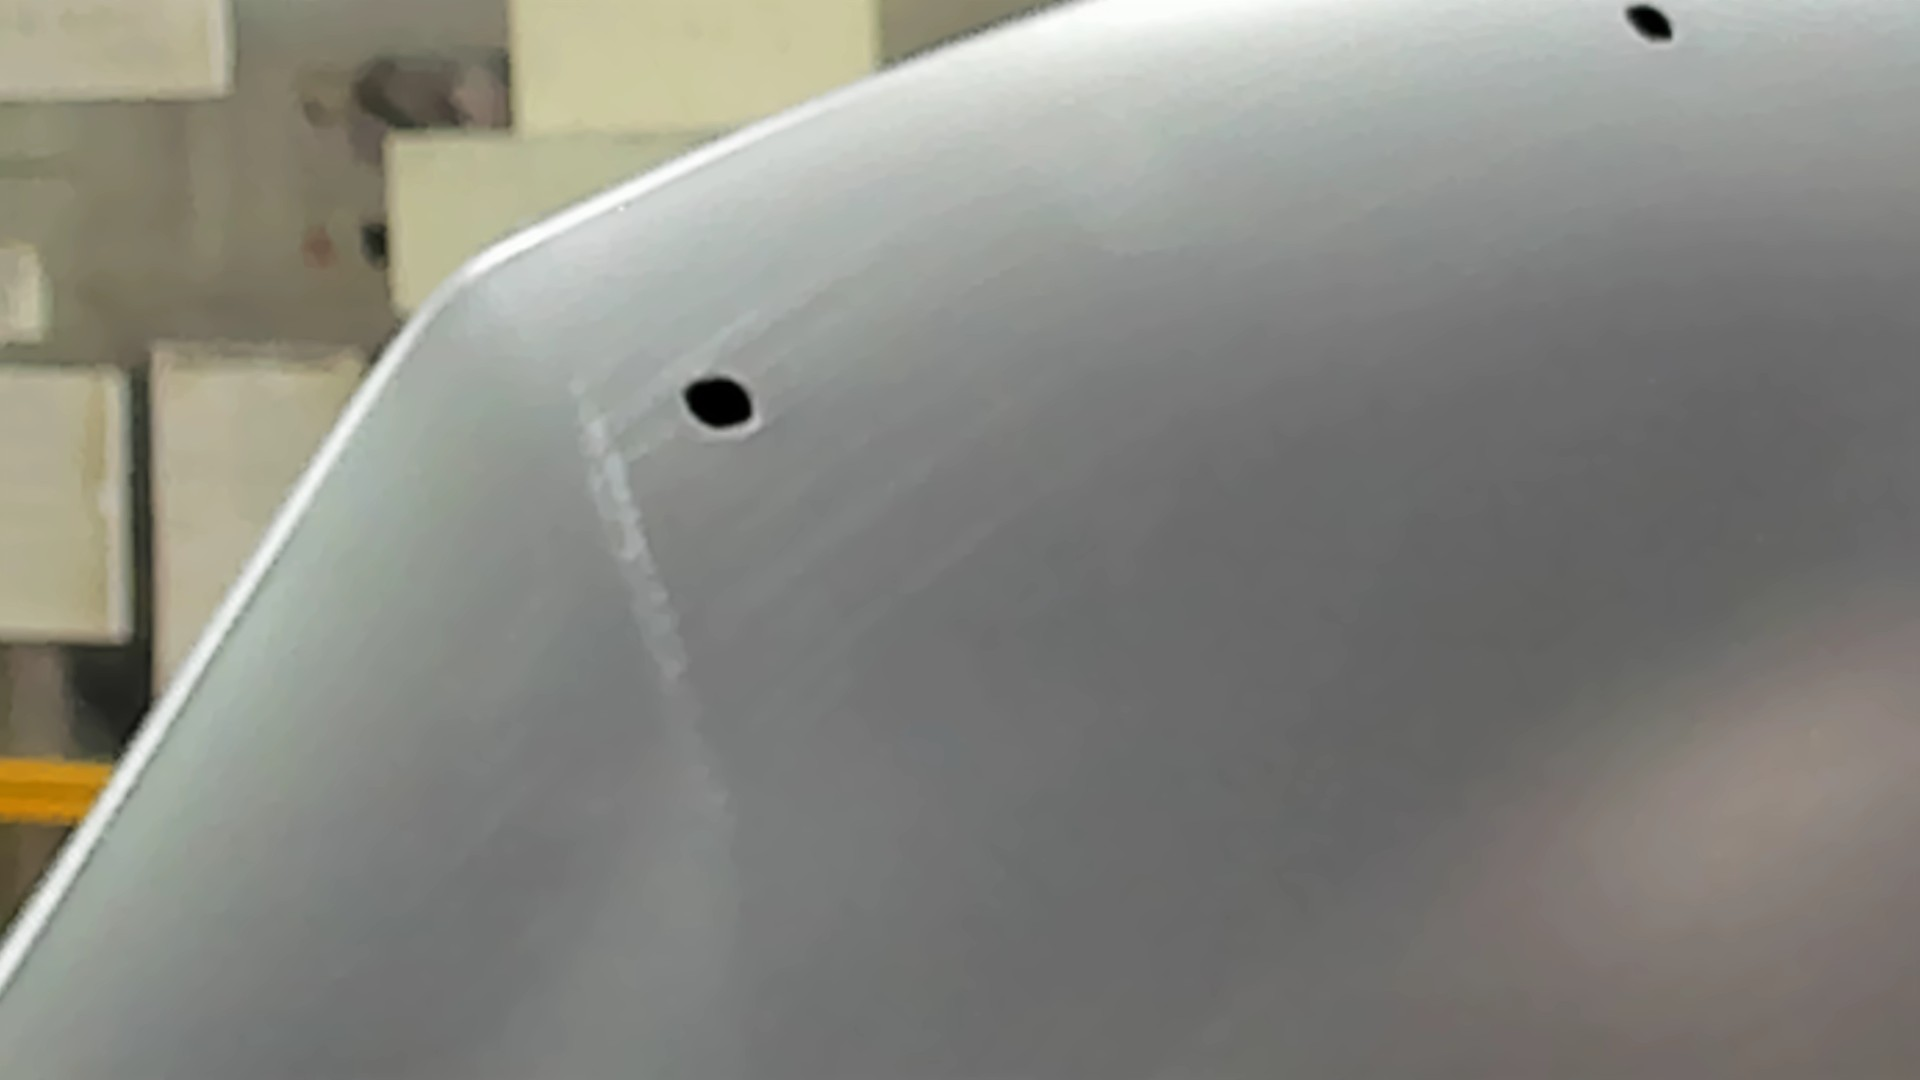amorfo: (671, 369, 767, 440), (1611, 1, 1683, 55)
capo: (856, 144, 1920, 1080)
